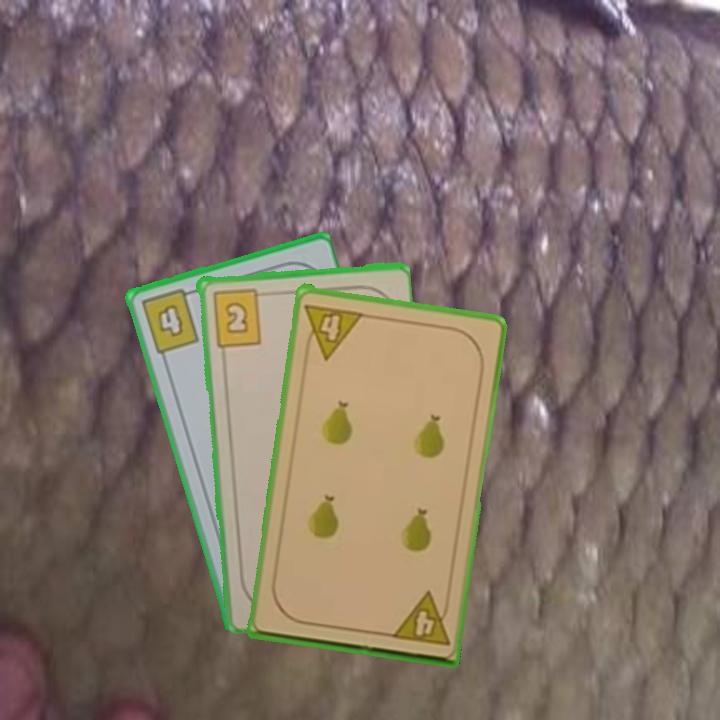2b: (208, 284, 270, 349)
4b: (137, 285, 202, 357)
4p: (300, 299, 367, 361), (387, 588, 453, 649)
